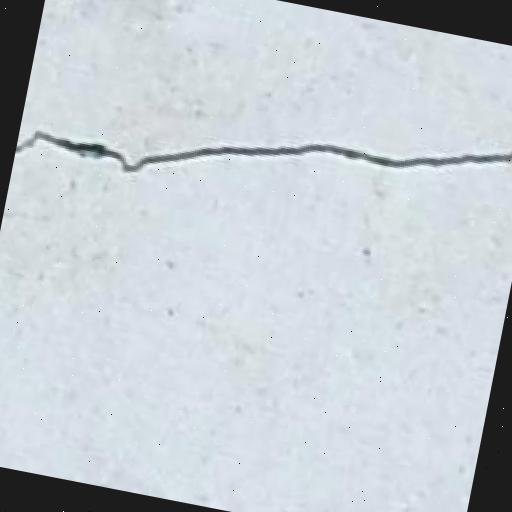spalling: (15, 122, 512, 190)
